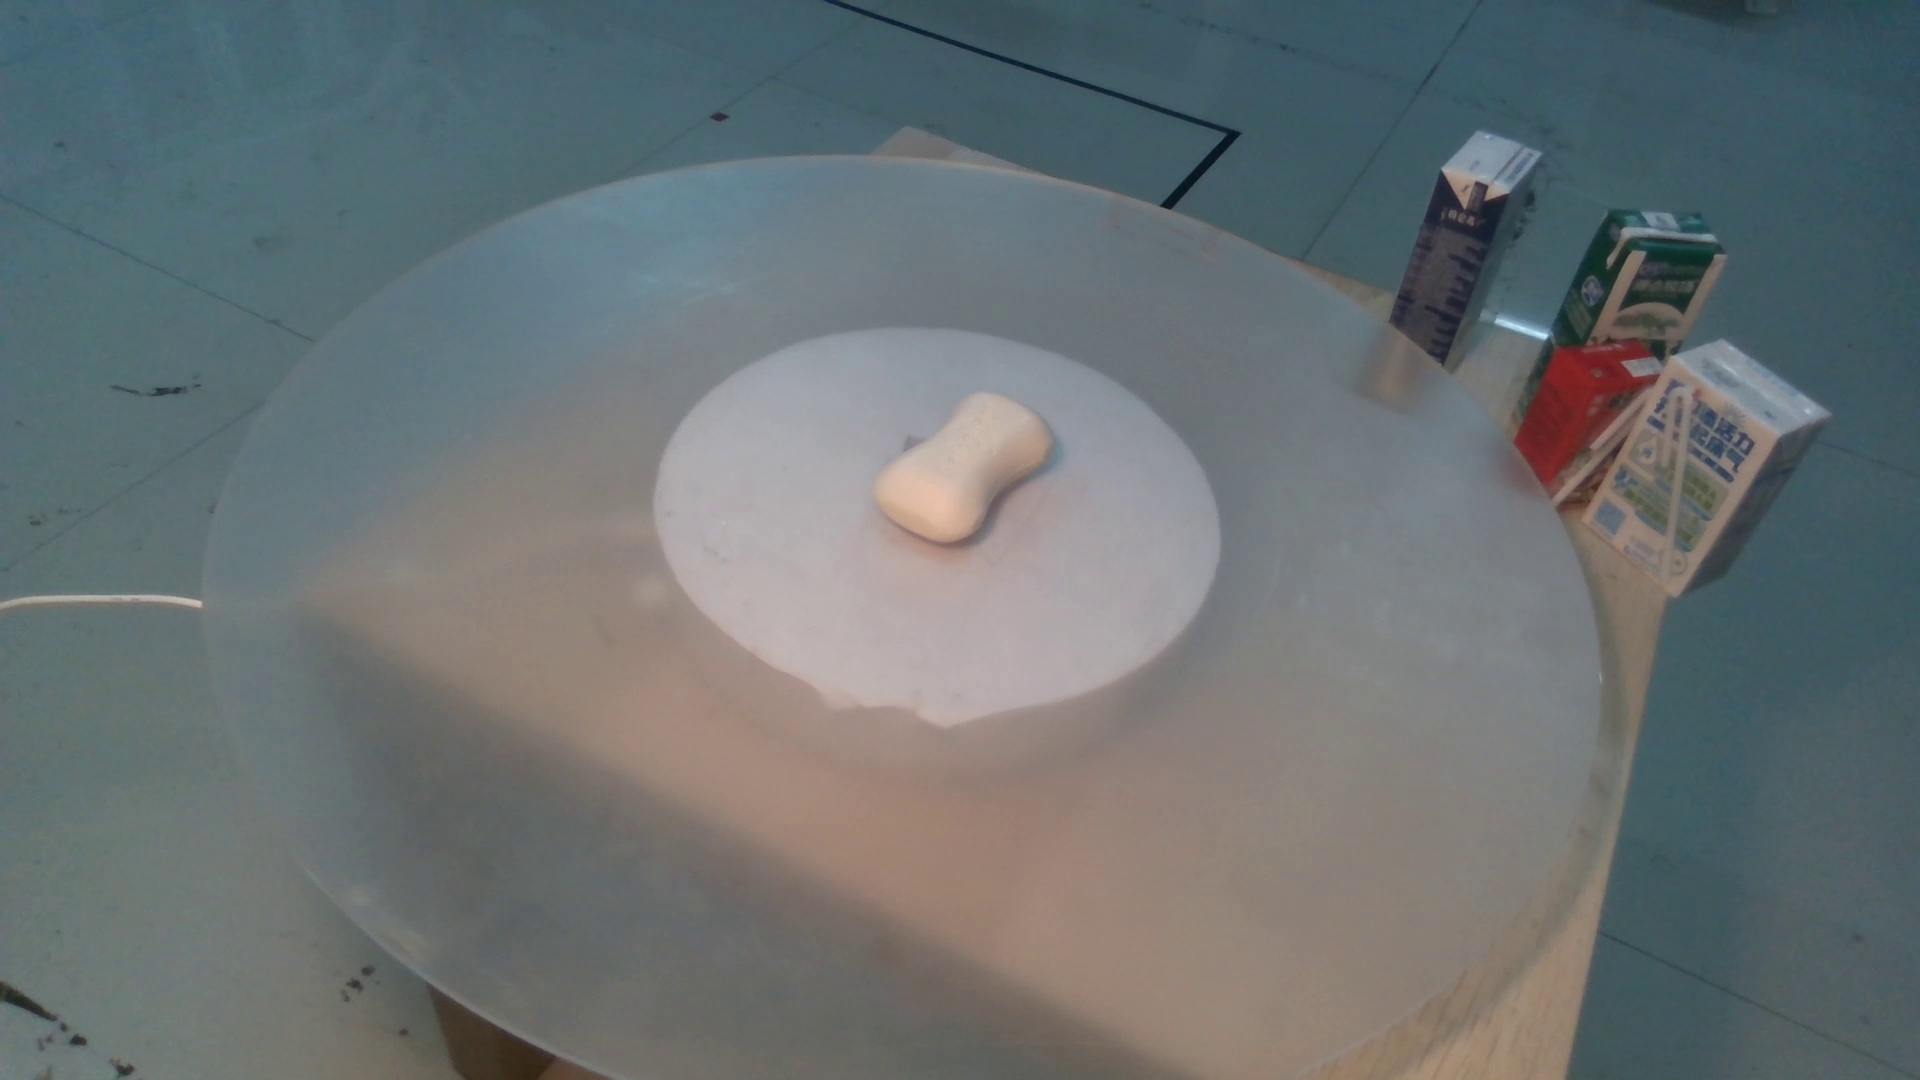CA003_1: (860, 368, 1116, 574)
